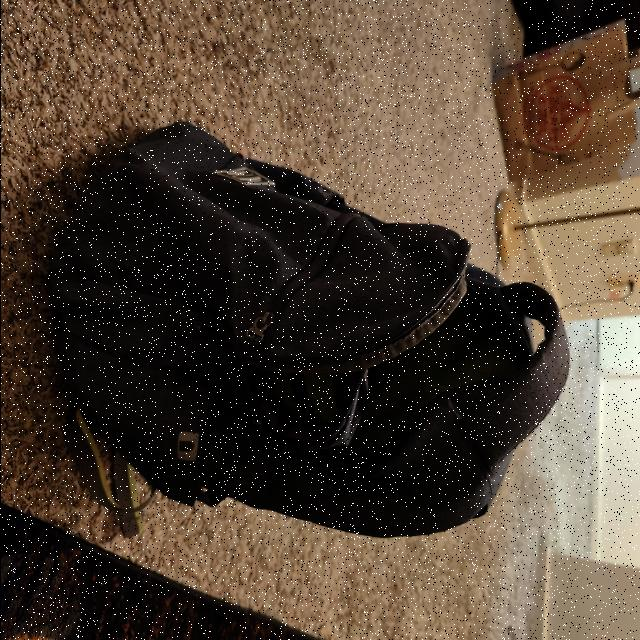bag: (82, 152, 566, 530)
